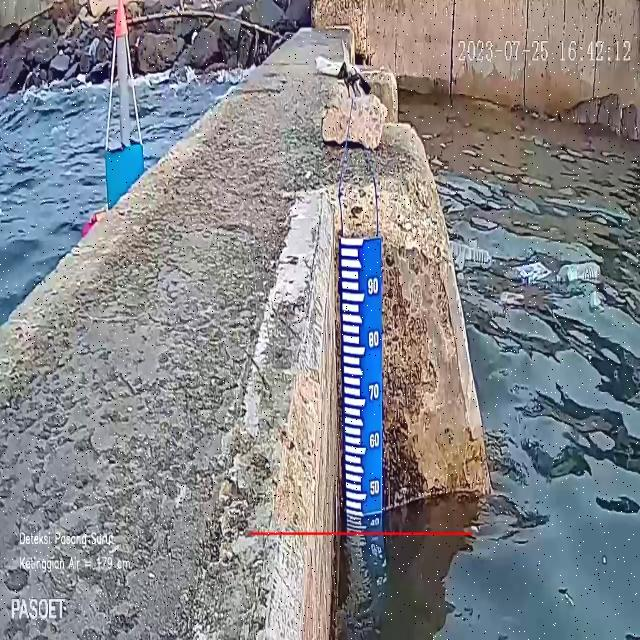50: (370, 479, 380, 497)
60: (369, 431, 380, 449)
70: (368, 383, 380, 402)
80: (367, 330, 380, 349)
90: (367, 278, 379, 296)
staff: (341, 237, 383, 514)
